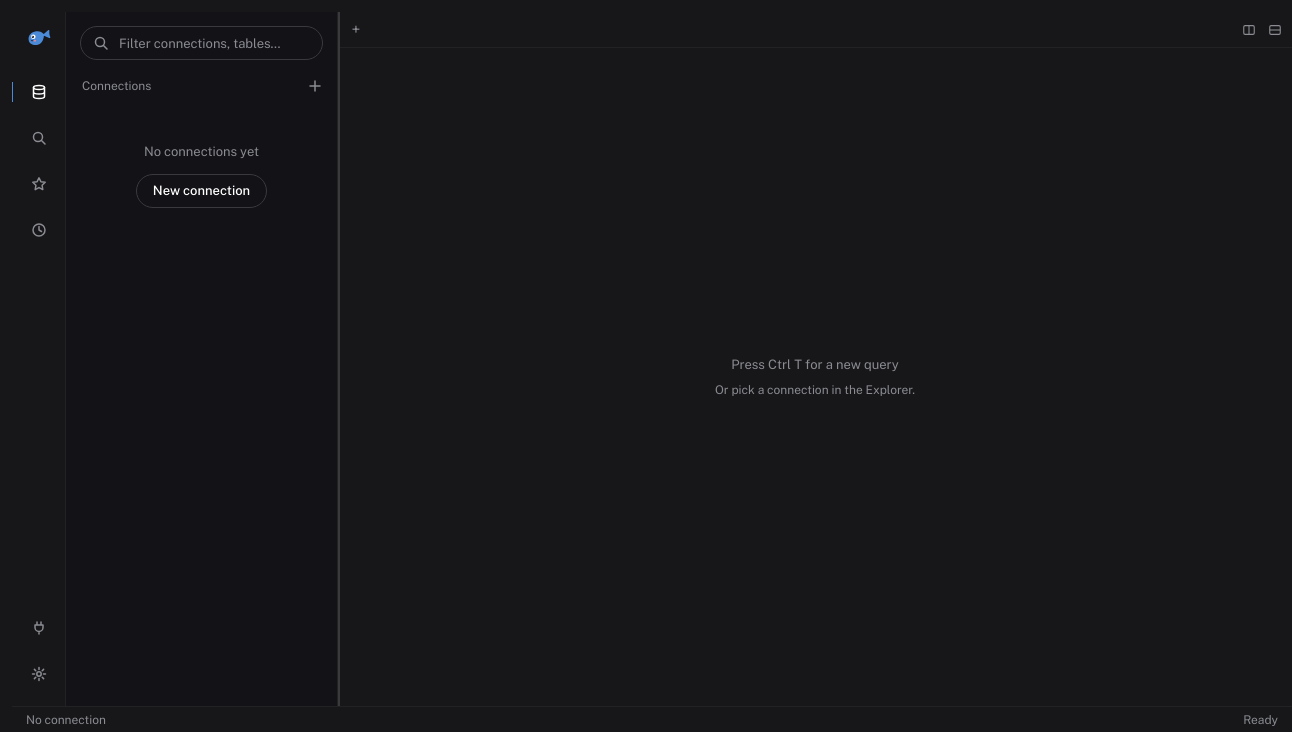
Test case: with Settings open, the search icon closes it and opens the palette
Click the button named "Settings": (38, 674) [12,654,66,694]
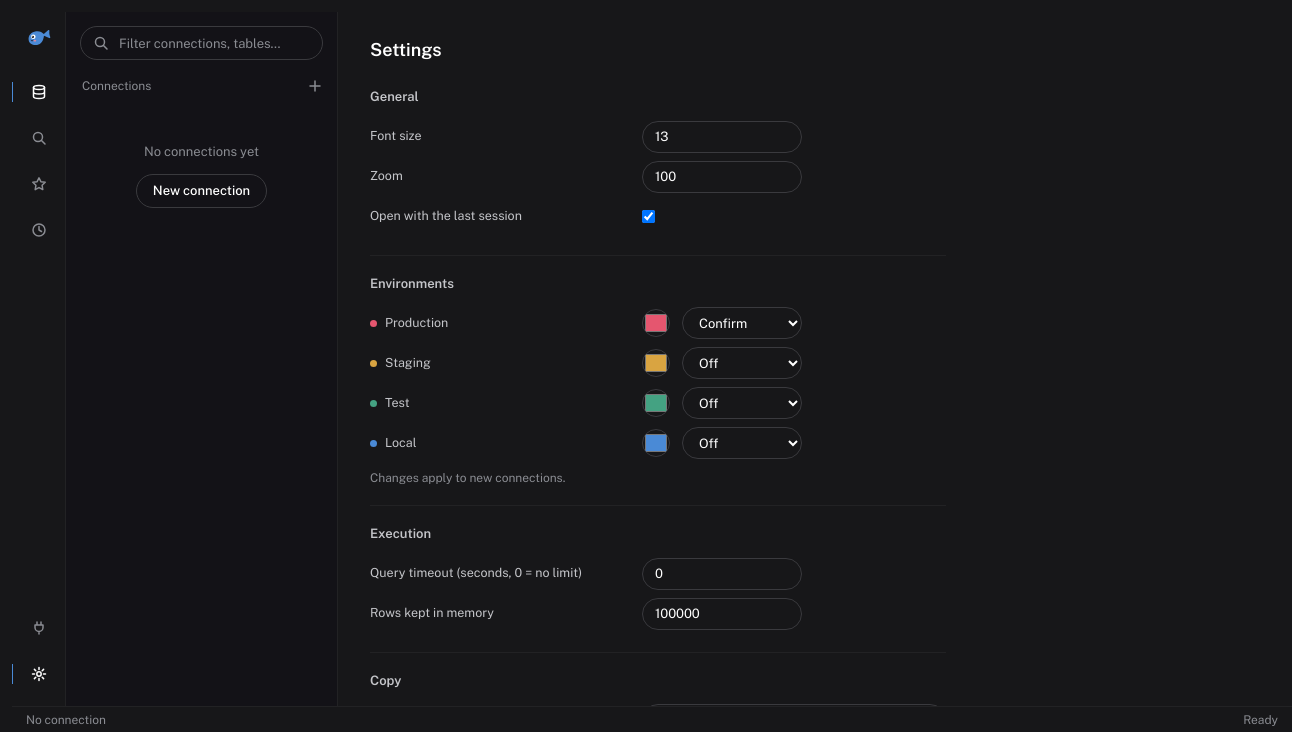
Click the button named "Search objects": (38, 138) [12,118,66,158]
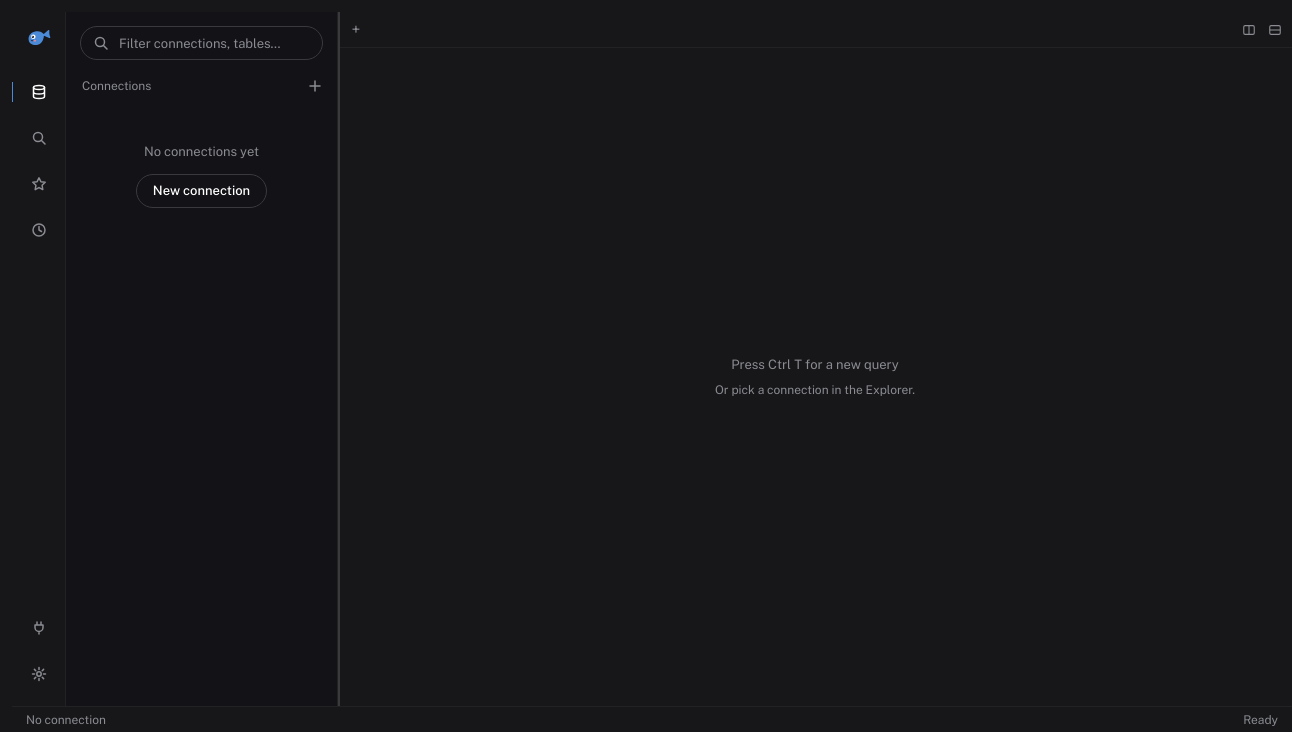
Now the heading "Settings" is gone
